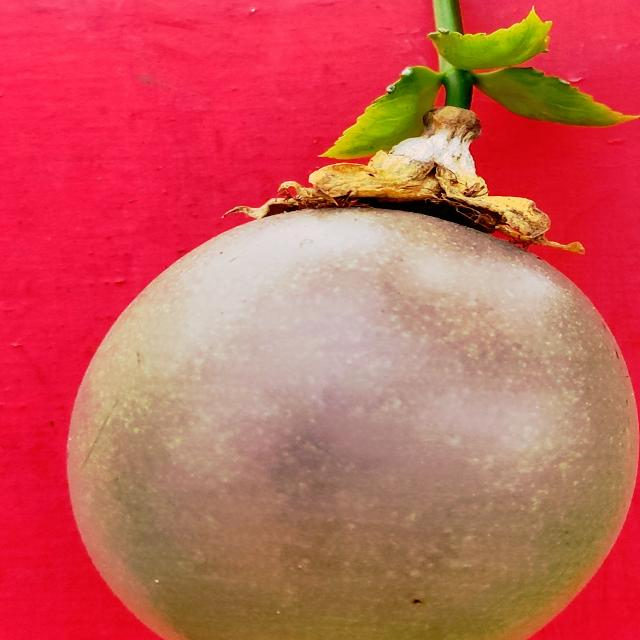Estado-4: (68, 107, 638, 640)
